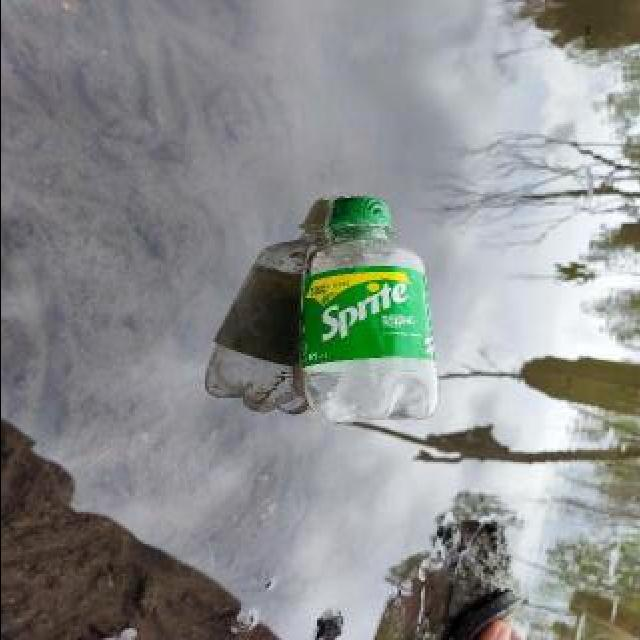Bottle: (288, 182, 442, 428)
